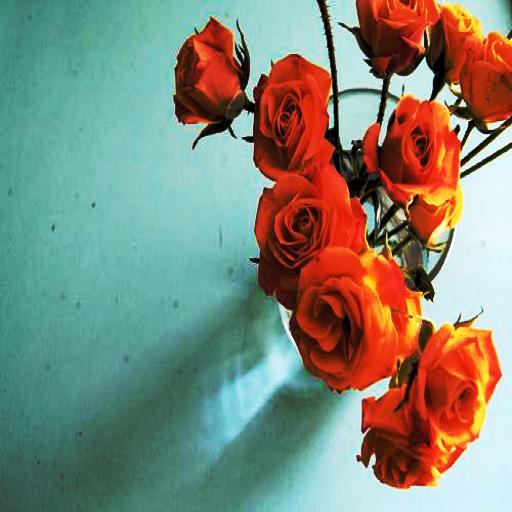rose: (290, 248, 389, 388), (255, 172, 360, 301), (414, 319, 502, 448), (366, 92, 462, 206), (254, 54, 331, 176), (173, 20, 247, 134), (360, 390, 440, 492), (462, 28, 512, 125)
